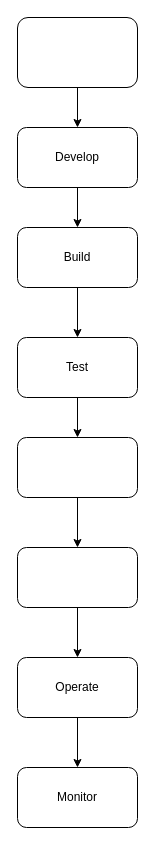
The diagram is 155 pixels wide and 845 high, and some of its shapes have lost their labels. Here are the shapes that lost their labels. From the top down, the box of each, then its label:
(16, 16, 138, 88): plan
(16, 436, 138, 498): Release
(16, 546, 138, 608): Display
